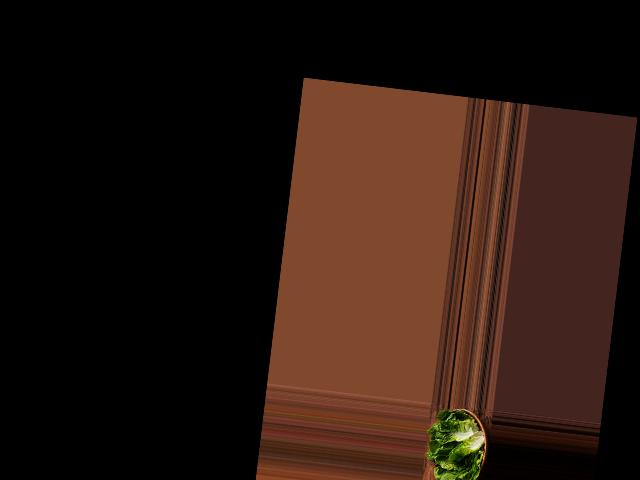lettuce: (423, 401, 492, 480)
